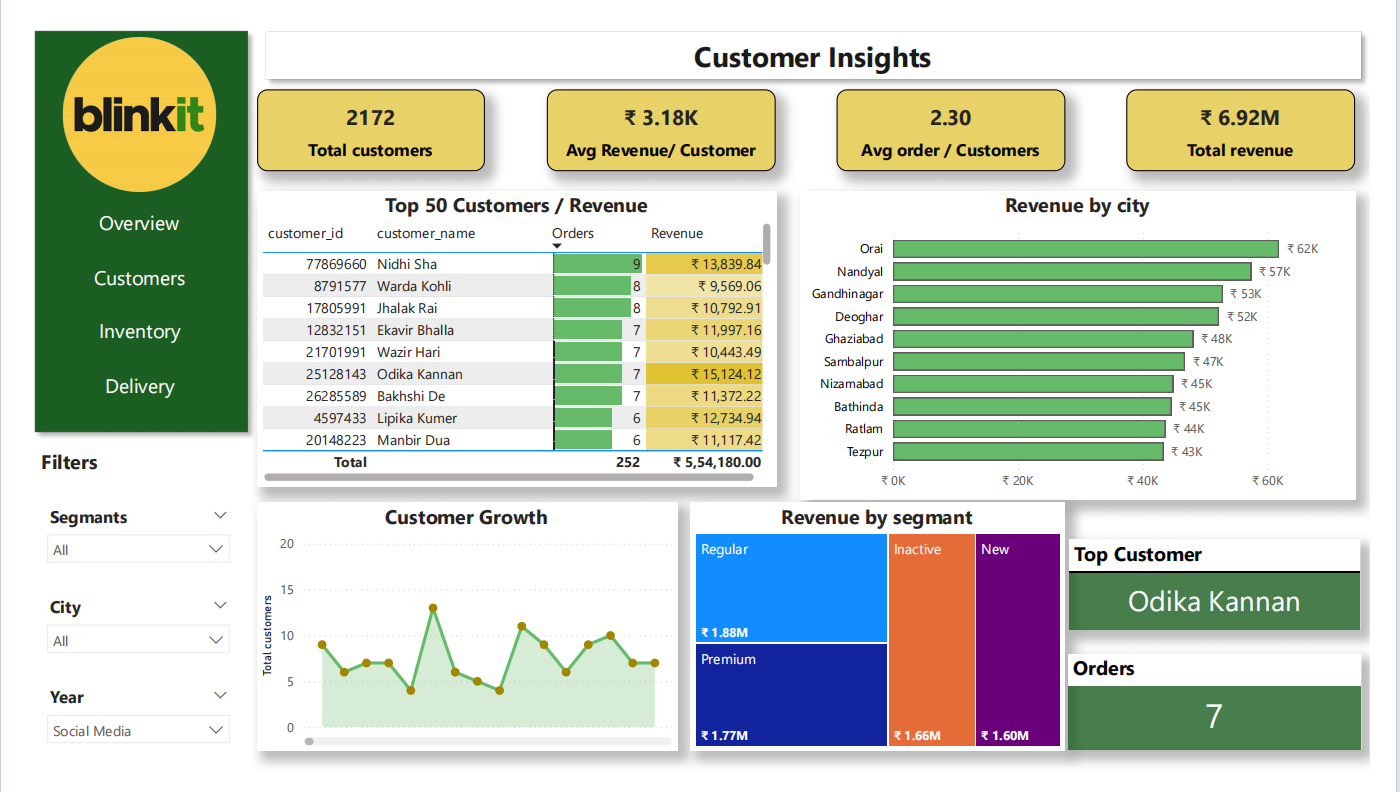

The dashboard page shown, as its layout file describes it:
{"tool":"powerbi","page":{"name":"Page 2","canvas":[1280,720],"ordinal":1},"visuals":[{"type":"shape","box":[0,0,219.9,399.2],"z":0},{"type":"image","box":[12.5,14.6,190.3,146.4],"z":1000},{"type":"actionButton","box":[13,161,190.3,58.6],"z":2000},{"type":"actionButton","box":[13,212.7,190.6,58.7],"z":3000},{"type":"actionButton","box":[13,264.4,190.6,58.7],"z":4000},{"type":"actionButton","box":[13,316.1,190.6,58.7],"z":5000},{"type":"shape","title":"Executive Overview Dashboard","box":[219.6,0,1060.4,62.7],"z":6000},{"type":"slicer","title":"Category","fields":{"Values":["Customers.City"]},"box":[9.5,454.9,194.1,74.8],"z":7000},{"type":"textbox","box":[9.8,400.8,210.2,42.4],"z":8000},{"type":"slicer","title":"Category","fields":{"Values":["Customers.customer_segment"]},"box":[9.5,540.8,194.1,74.8],"z":9000},{"type":"slicer","title":"Category","fields":{"Values":["marketing_performance.channel"]},"box":[9.5,626.7,194.1,74.8],"z":10000},{"type":"card","fields":{"Values":["Dax measures.Total customers"]},"box":[219.5,63.6,217.9,77.9],"z":11000},{"type":"card","fields":{"Values":["Dax measures.Avg Revenue/ Customer"]},"box":[495.7,63.6,217.9,77.9],"z":12000},{"type":"card","fields":{"Values":["Dax measures.Avg order / Customers"]},"box":[772,63.6,217.9,77.9],"z":13000},{"type":"card","fields":{"Values":["Dax measures.Total revenue"]},"box":[1048.2,63.6,217.9,77.9],"z":14000},{"type":"tableEx","title":"Top 50 Customers / Revenue","fields":{"Values":["Customers.customer_id","Customers.customer_name","Dax measures.Total Orders","Dax measures.Total revenue"]},"box":[220.4,160.8,494.4,281.9],"z":15000},{"type":"clusteredBarChart","title":"Revenue by city","fields":{"Category":["Customers.City"],"Y":["Dax measures.Total revenue"]},"box":[738,160.7,528.1,294.3],"z":16000},{"type":"lineChart","title":"Customer Growth","fields":{"Category":["Calender.Date"],"Y":["Dax measures.Total customers"]},"box":[219.5,458.1,400.8,235.4],"z":17000},{"type":"treemap","title":"Revenue by segmant","fields":{"Group":["Customers.customer_segment"],"Values":["Dax measures.Total revenue"]},"box":[633.1,458.1,356.3,235.4],"z":18000},{"type":"card","title":"Top Customer","fields":{"Values":["Min(Customers.customer_name)"]},"box":[994.1,493.1,276.8,85.9],"z":19000},{"type":"card","title":"Orders","fields":{"Values":["Dax measures.Total Orders"]},"box":[993.3,601.7,278.3,91.7],"z":19001}]}

Visuals, with their boxes in screenshot pixels (x1, y1, x2, y2), scaled from the page's 1280x720 canvas onto the 1400x792 screenshot:
shape: [0, 0, 241, 439]
image: [14, 16, 222, 177]
actionButton: [14, 177, 222, 242]
actionButton: [14, 234, 223, 299]
actionButton: [14, 291, 223, 355]
actionButton: [14, 348, 223, 412]
"Executive Overview Dashboard" shape: [240, 0, 1399, 69]
"Category" slicer: [10, 500, 223, 583]
textbox: [11, 441, 241, 488]
"Category" slicer: [10, 595, 223, 677]
"Category" slicer: [10, 689, 223, 772]
card - Dax measures.Total customers: [240, 70, 478, 156]
card - Dax measures.Avg Revenue/ Customer: [542, 70, 780, 156]
card - Dax measures.Avg order / Customers: [844, 70, 1083, 156]
card - Dax measures.Total revenue: [1146, 70, 1385, 156]
"Top 50 Customers / Revenue" tableEx: [241, 177, 782, 487]
"Revenue by city" clusteredBarChart: [807, 177, 1385, 501]
"Customer Growth" lineChart: [240, 504, 678, 763]
"Revenue by segmant" treemap: [692, 504, 1082, 763]
"Top Customer" card: [1087, 542, 1390, 637]
"Orders" card: [1086, 662, 1391, 763]
